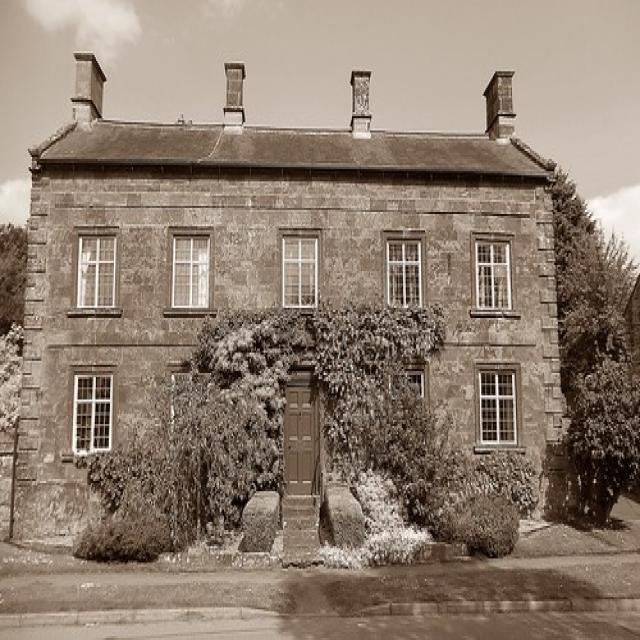building: (12, 50, 576, 561)
